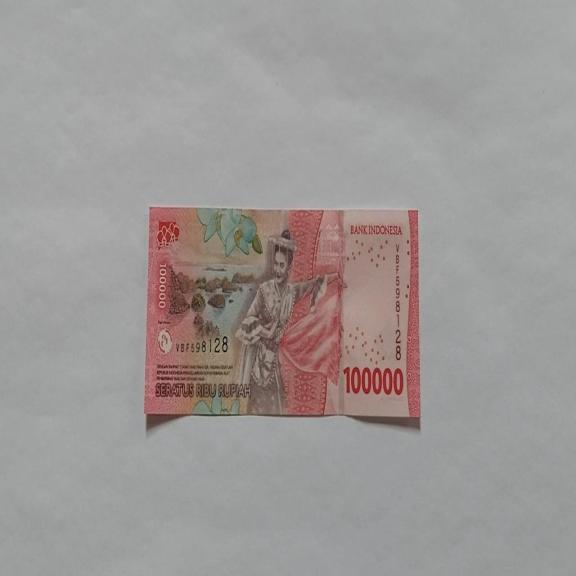Kertas: (144, 206, 420, 420), (343, 363, 404, 397)
